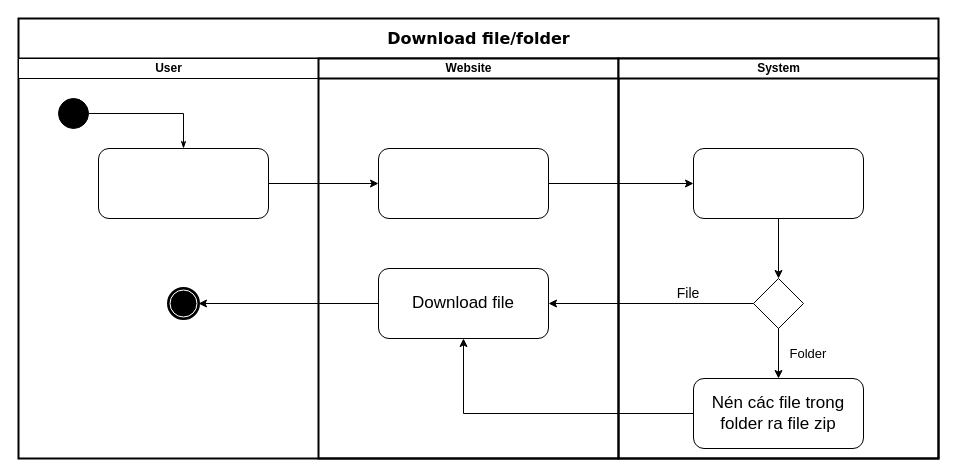
Some shapes in this 956 by 476 pixel diagram are drawn without their labels. The centre of each missing label's shape, as x and y in pixels:
"Chọn file/folder muốn download" goes at point (183, 183).
"Gọi API download" goes at point (463, 183).
"Kiểm tra download file hay folder" goes at point (778, 183).
